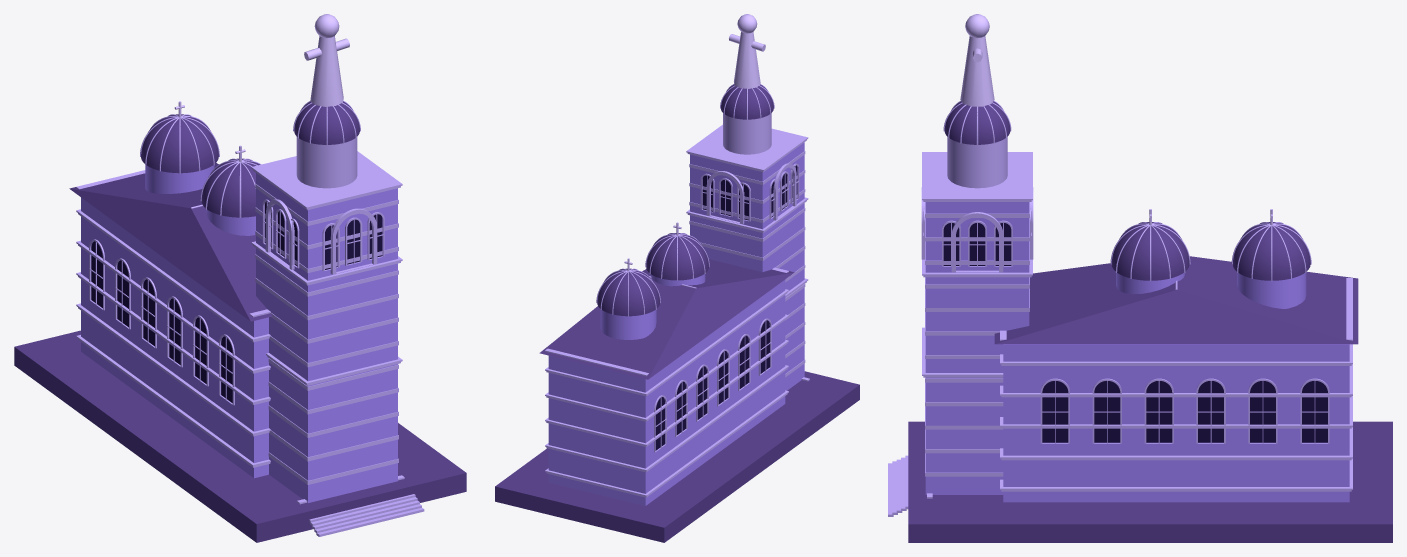
The model's file is garde_violet_light.glb.
The picture shows the model from 3 angles, left to right: view 1: azimuth 30°, elevation 25°; view 2: azimuth 150°, elevation 25°; view 3: azimuth 270°, elevation 25°; orthographic projection. The views are drawn at different scales.
Parts seen in each view (by area): view 1: Violet stone, Violet slate, Lavender carved stone, Recessed glazing, Pale violet trim; view 2: Violet stone, Violet slate, Lavender carved stone, Recessed glazing, Pale violet trim; view 3: Violet stone, Violet slate, Lavender carved stone, Recessed glazing, Pale violet trim.
Part boxes in pixels (left/top/right/bottom): Violet stone: left=81, top=165, right=397, bottom=502; Violet slate: left=14, top=101, right=466, bottom=542; Lavender carved stone: left=76, top=100, right=424, bottom=536; Recessed glazing: left=91, top=201, right=382, bottom=402; Pale violet trim: left=174, top=14, right=349, bottom=161; Violet stone: left=548, top=142, right=804, bottom=505; Violet slate: left=495, top=84, right=859, bottom=542; Lavender carved stone: left=545, top=84, right=809, bottom=497; Recessed glazing: left=655, top=165, right=797, bottom=450; Pale violet trim: left=624, top=14, right=765, bottom=271; Violet stone: left=925, top=202, right=1349, bottom=502; Violet slate: left=908, top=101, right=1392, bottom=542; Lavender carved stone: left=888, top=100, right=1352, bottom=516; Recessed glazing: left=943, top=223, right=1327, bottom=442; Pale violet trim: left=960, top=14, right=1272, bottom=225.
Bounding box in the file's own units: 29.94 × 65 × 62.37.
